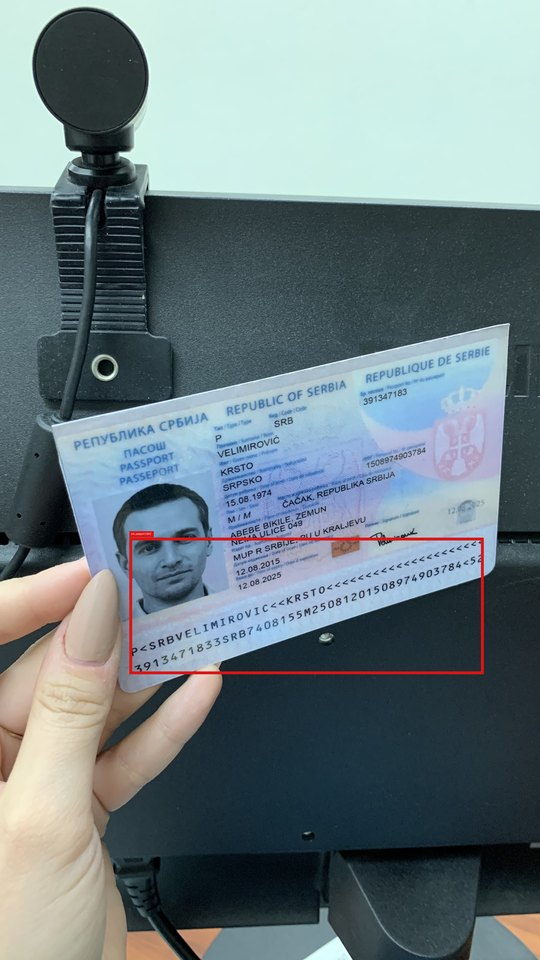MRZ: (129, 538, 484, 674)
